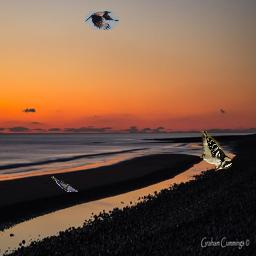Crow: (85, 11, 119, 30)
Cuckoo: (51, 176, 78, 192)
Woodpecker: (200, 131, 232, 171)
